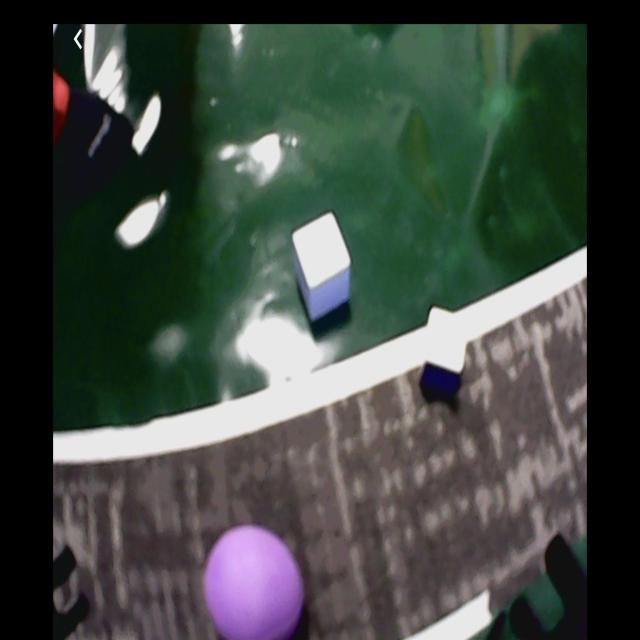ball: (206, 525, 303, 640)
